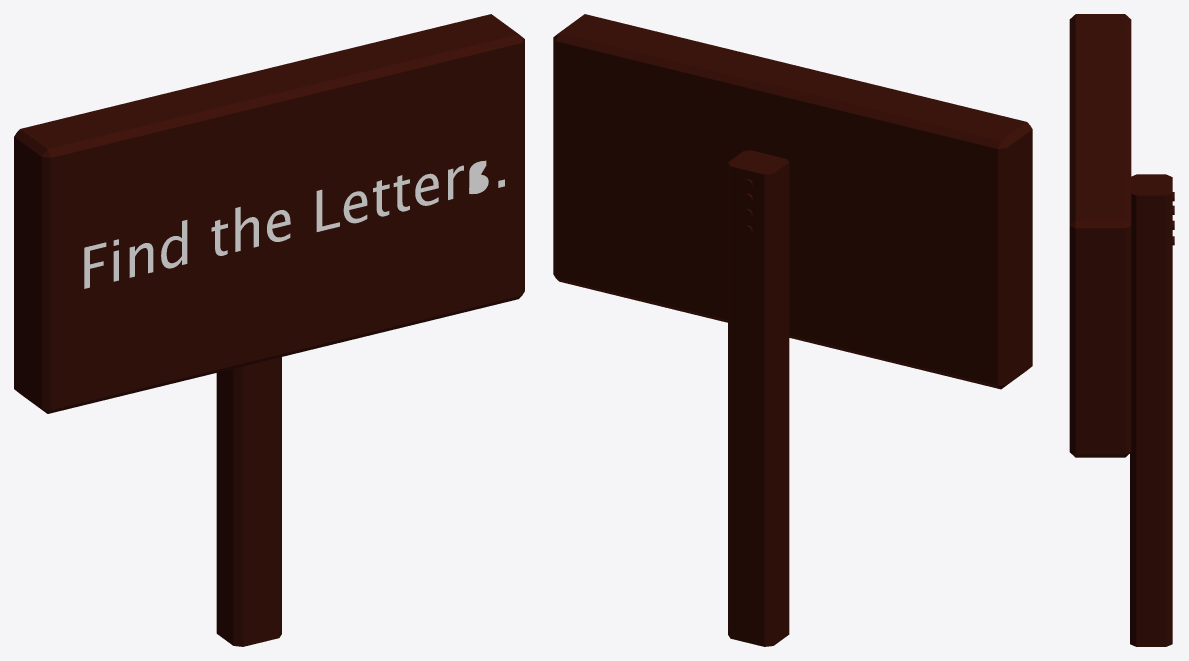
Rendered from sign.fbx.
3 views of the same model, side by side, from view 1: azimuth 30°, elevation 25°; view 2: azimuth 150°, elevation 25°; view 3: azimuth 270°, elevation 25° (orthographic). The views are drawn at different scales.
Parts seen in each view (by area): view 1: sign1; view 2: sign1; view 3: sign1.
Part boxes in pixels (box(x1,y1,x2,y2)): sign1: box(14, 14, 524, 646); sign1: box(553, 14, 1032, 646); sign1: box(1069, 14, 1174, 646).
Bounding box in the file's own units: 370 × 421 × 84.1.
